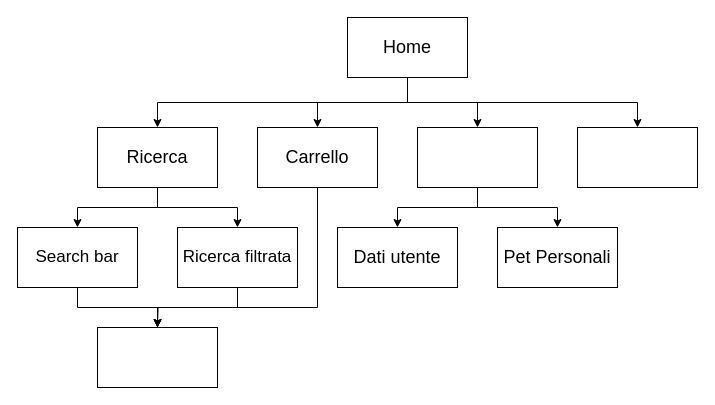
The diagram is 715 pixels wide and 405 high, and some of its shapes have lost their labels. The shapes that lost their labels are listed below. From the top down, each one's centre as x and y in pixels, then its label:
point (477, 157): Profilo
point (637, 157): ContactUs
point (157, 357): Prodotti
